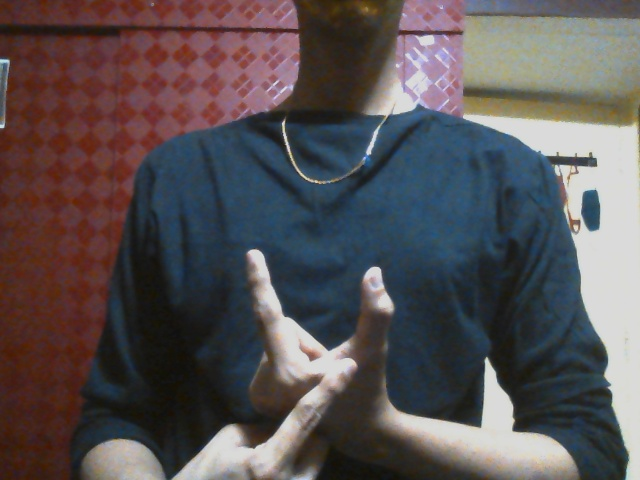Y: (195, 247, 395, 480)
